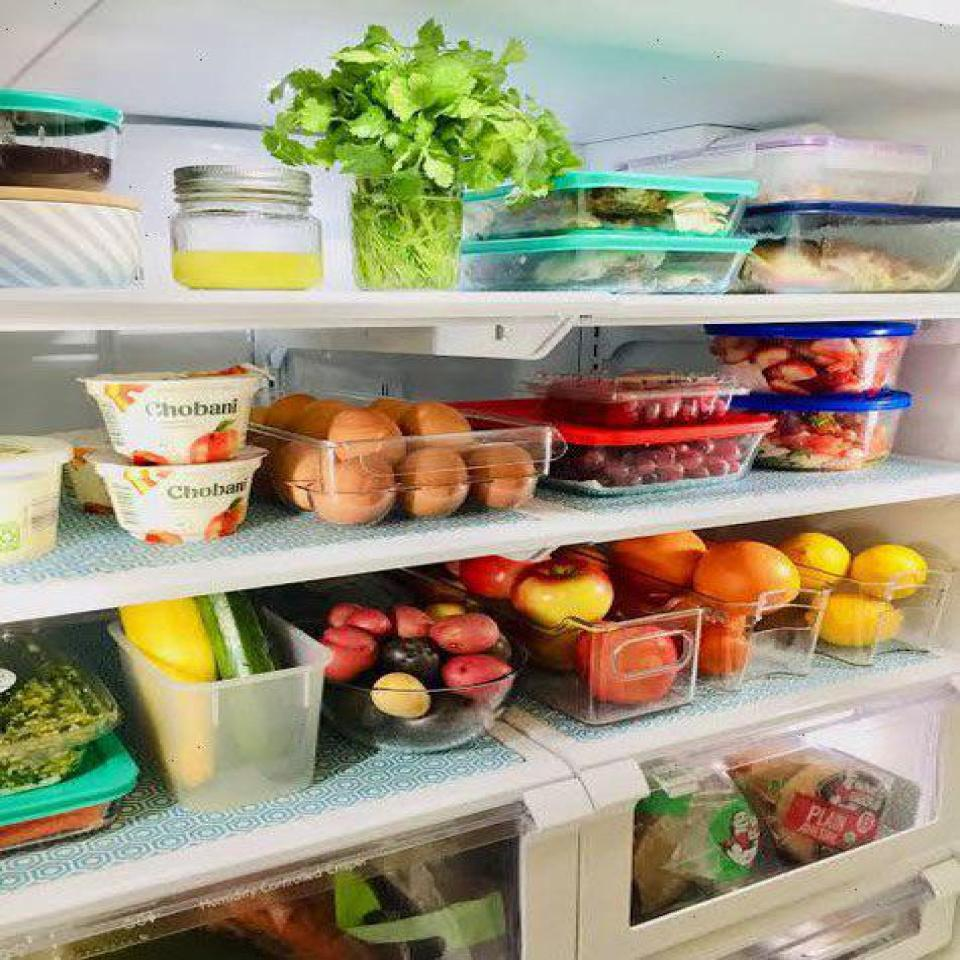Huevos: (248, 395, 537, 522)
Limón: (806, 593, 904, 647), (849, 545, 930, 598), (781, 531, 850, 586)
Manzana: (514, 558, 614, 632)
Pepino: (197, 591, 309, 782)
orange: (694, 540, 800, 606), (609, 530, 706, 585)
